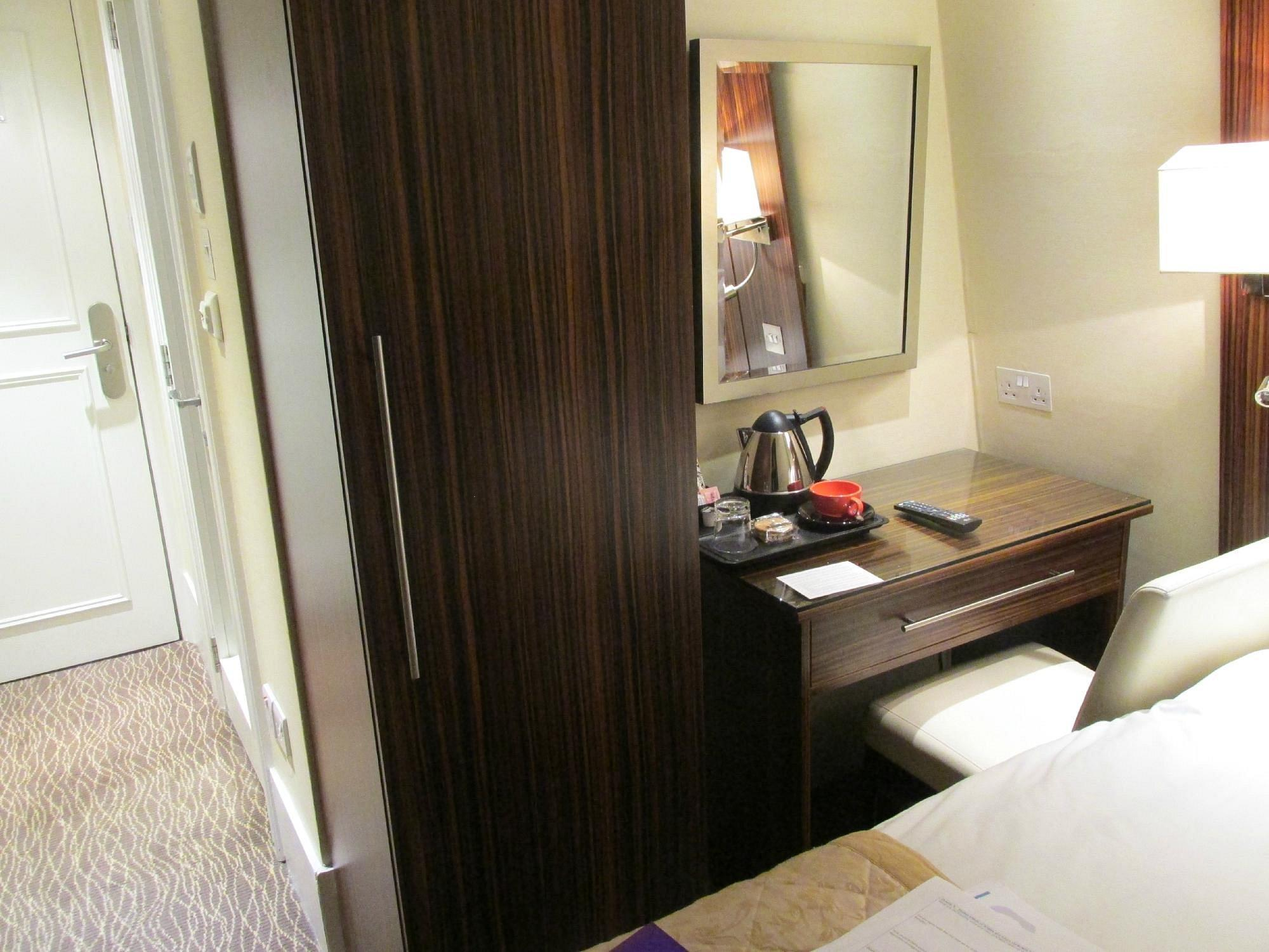chair: (857, 541, 1269, 798)
organized table: (693, 436, 1156, 687)
